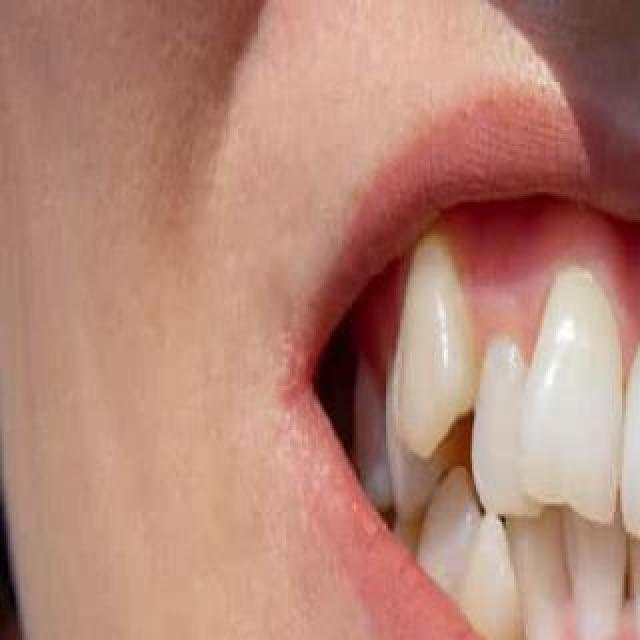maligned: (530, 252, 640, 528), (386, 233, 474, 441), (461, 318, 541, 502), (438, 514, 522, 640)
